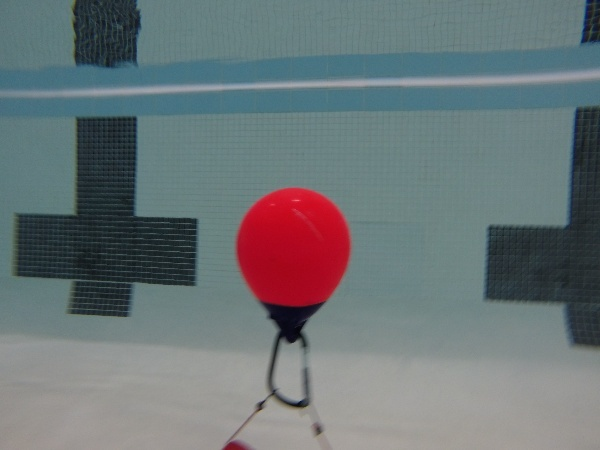buoy_red: (234, 182, 349, 344)
